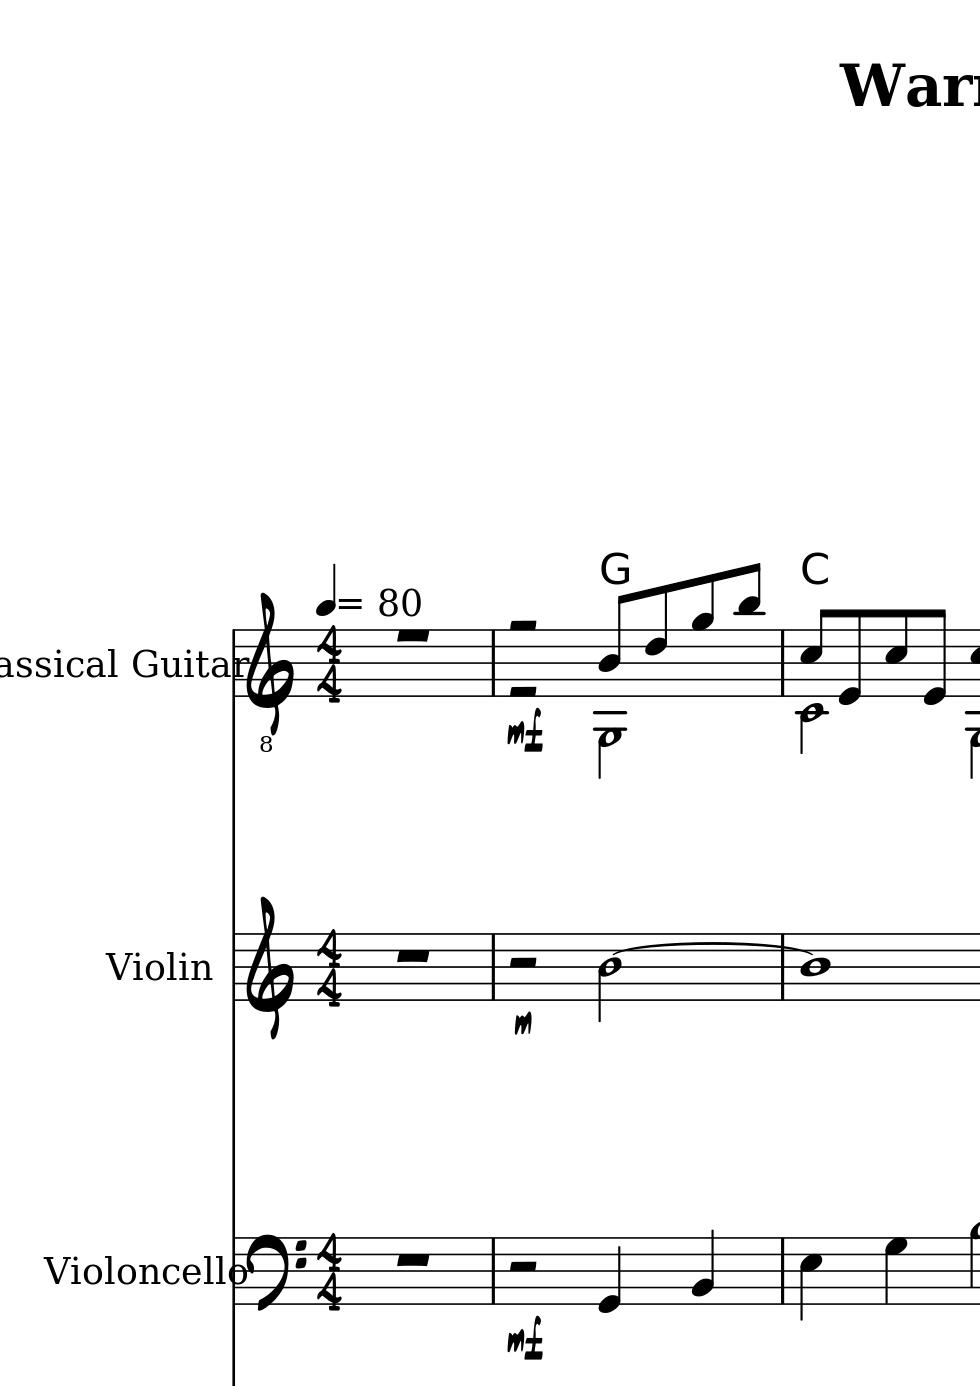0: (400, 584, 421, 619)
1_4: (798, 932, 832, 1002)
2_4: (596, 932, 622, 1023)
4: (315, 663, 346, 704), (315, 968, 346, 1008), (315, 1271, 346, 1311), (315, 622, 345, 663), (315, 927, 344, 967), (316, 1232, 345, 1271)
4_0: (596, 1235, 622, 1315)
4_2: (689, 1228, 716, 1308)
4_5: (797, 1235, 822, 1322)
4_7: (882, 1236, 909, 1306)
8: (377, 585, 400, 617)
8_0: (837, 607, 864, 709), (920, 607, 947, 709)
8_11: (735, 559, 762, 700)
8_4: (596, 592, 630, 699)
8_5: (799, 606, 830, 699), (882, 607, 909, 698)
8_6: (642, 582, 668, 701)
8_9: (689, 573, 714, 698)
Fclef: (247, 1232, 308, 1312)
Gclef: (243, 894, 295, 1041)
Guit: (133, 647, 210, 680)
Lower_Gclef: (244, 591, 295, 755)
Rests1: (391, 944, 433, 964), (390, 625, 434, 644), (391, 1249, 434, 1267)
Rests2: (505, 615, 541, 636), (505, 1258, 541, 1278), (506, 678, 539, 699), (505, 954, 541, 973)
Sharp: (511, 1010, 533, 1038)
Single_barline: (774, 934, 791, 1001), (774, 1238, 791, 1304), (485, 1238, 501, 1303), (227, 1236, 242, 1306), (485, 630, 501, 695), (228, 628, 242, 700), (775, 630, 790, 696), (485, 934, 500, 999), (227, 933, 241, 1002)
Speed4: (317, 565, 365, 617)
Speed_4=80: (310, 564, 423, 618)
TimeSig: (315, 928, 344, 1008), (315, 1233, 343, 1314), (315, 624, 343, 703)
Vln: (102, 948, 211, 984)
mf: (505, 1315, 546, 1363), (505, 708, 545, 754)
